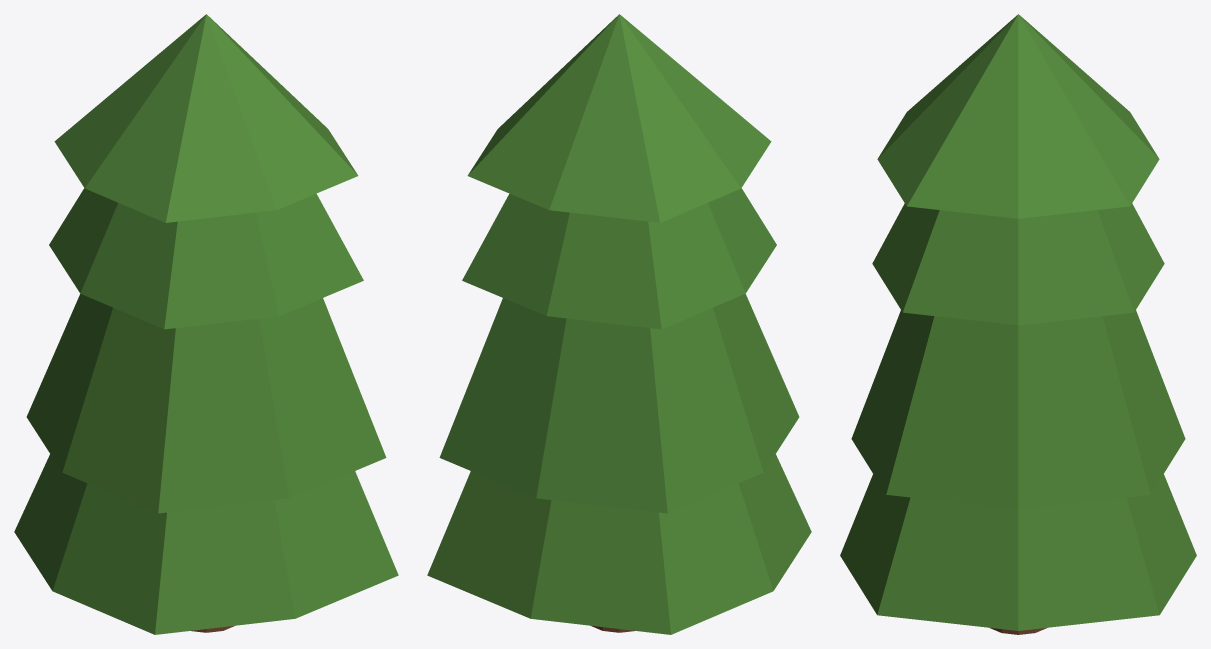
File: Tree_22_summer_vc.fbx
3 renders of one model, left to right at view 1: azimuth 30°, elevation 25°; view 2: azimuth 150°, elevation 25°; view 3: azimuth 270°, elevation 25°, orthographic.
Visible parts, largest first — view 1: Tree_22_summer_vc; view 2: Tree_22_summer_vc; view 3: Tree_22_summer_vc.
Boxes of the visible parts, x1,y1,x2,y2 form: Tree_22_summer_vc: [14, 14, 398, 634]; Tree_22_summer_vc: [427, 14, 811, 634]; Tree_22_summer_vc: [840, 14, 1196, 634].
Bounding box in the file's own units: 2.15 × 4.04 × 2.15.
